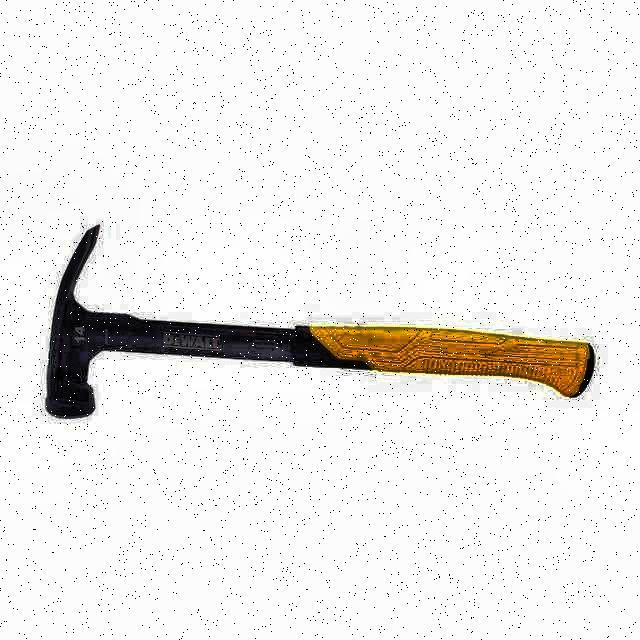hammer: (41, 219, 609, 423)
